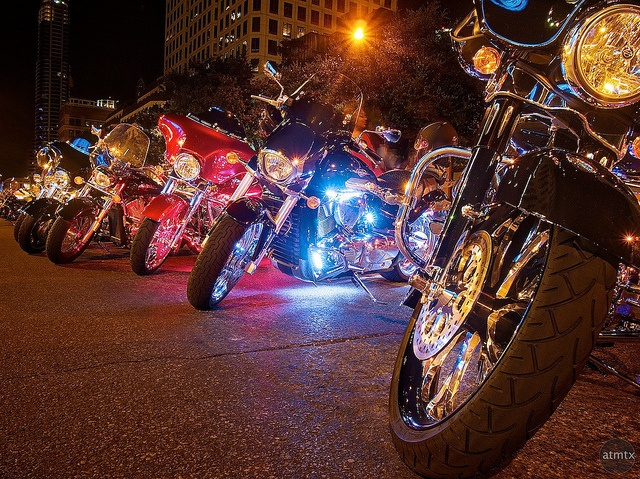non-vehicle: (388, 1, 640, 471), (184, 60, 412, 309), (130, 107, 258, 275), (43, 121, 160, 266), (16, 139, 94, 256), (0, 177, 35, 217)
